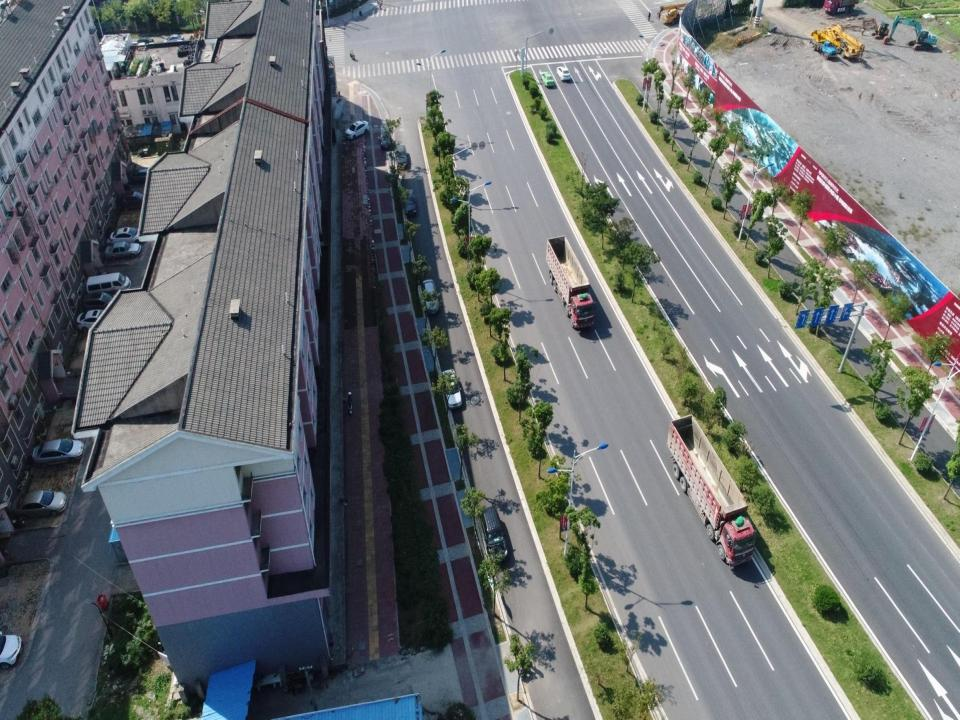car: (11, 488, 68, 520), (32, 437, 84, 468), (0, 630, 23, 670), (80, 292, 120, 314), (76, 310, 112, 334), (442, 368, 462, 408), (104, 241, 142, 261), (422, 278, 440, 316), (120, 190, 151, 212), (344, 120, 370, 140), (109, 227, 141, 243), (131, 167, 159, 185), (403, 189, 417, 215), (395, 144, 408, 170), (380, 126, 392, 149), (164, 34, 184, 46), (556, 66, 571, 82), (131, 37, 154, 47), (541, 71, 554, 87)
truck: (666, 413, 756, 567), (546, 234, 594, 330), (808, 30, 841, 60), (823, 0, 859, 15)
van: (481, 505, 509, 565), (86, 272, 132, 295)
